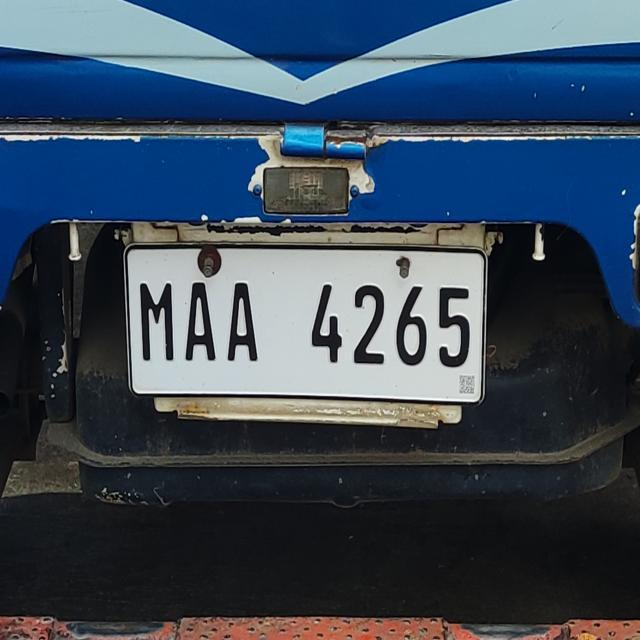LicensePlate: (119, 229, 494, 420)
